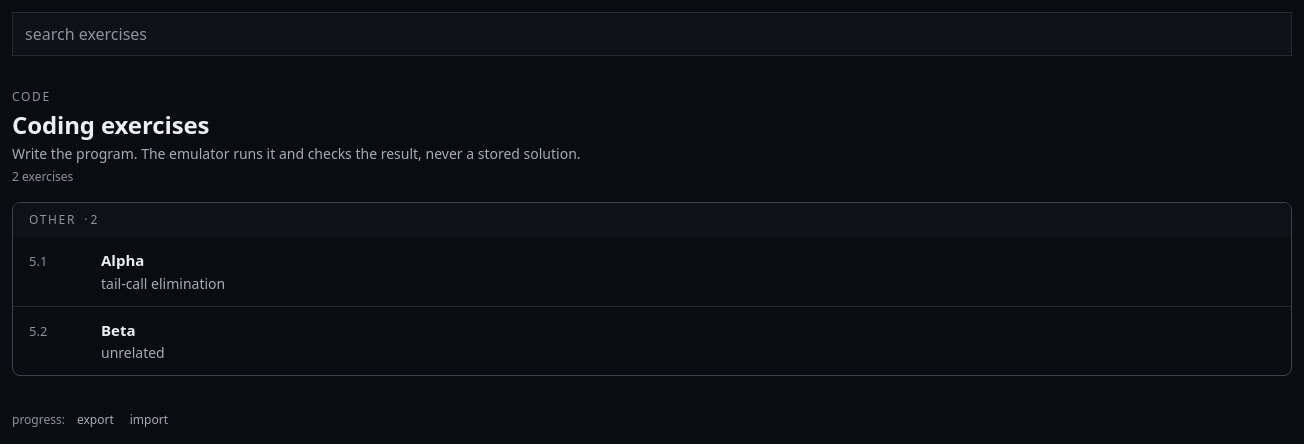
Scenario: ExerciseIndex › matches the search query against the blurb
Type "elimination" into the search field labelled "search exercises".
click(652, 34); type("elimination")  # box x1=12 y1=12 x2=1292 y2=56
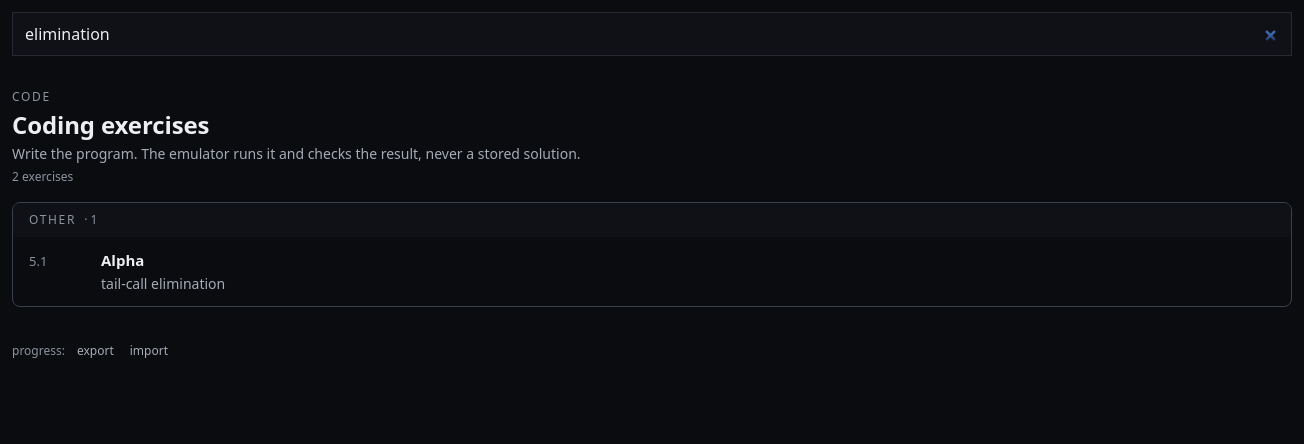
Expected: the text "Alpha" is shown, x1=101 y1=250 x2=144 y2=270
Expected: the link "Beta" is gone
